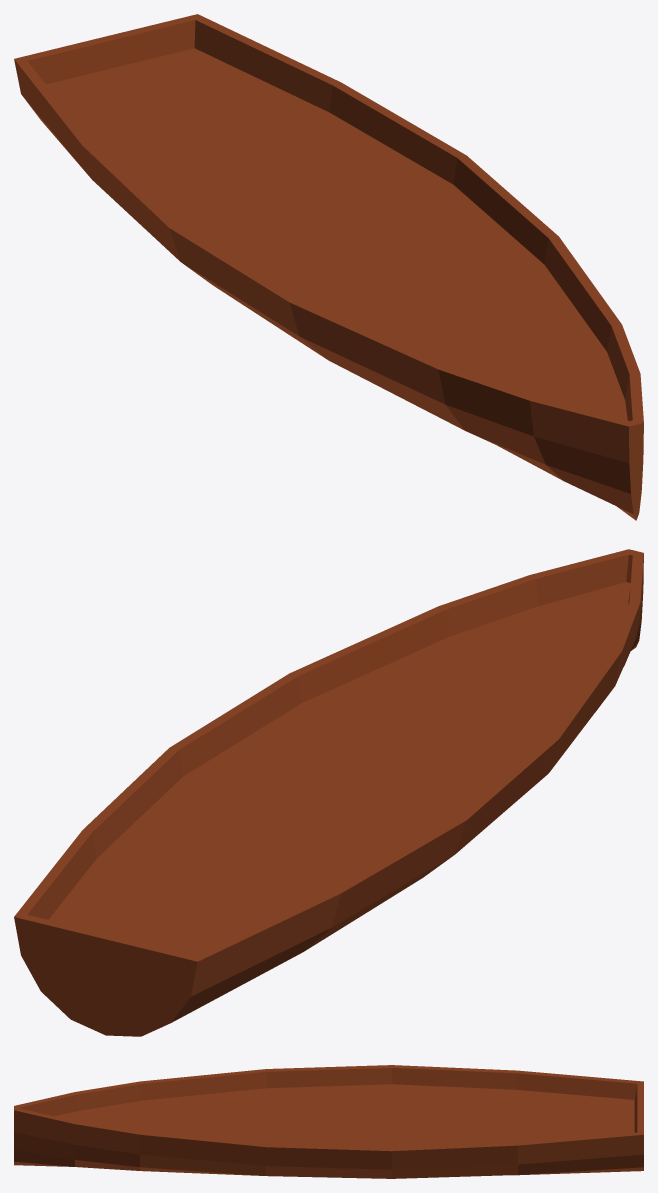
Rendered from Ruderboot.fbx.
3 renders of one model, top to bottom at view 1: azimuth 30°, elevation 25°; view 2: azimuth 150°, elevation 25°; view 3: azimuth 270°, elevation 25°, orthographic. The views are drawn at different scales.
Visible parts, largest first — view 1: Cylinder; view 2: Cylinder; view 3: Cylinder.
Boxes of the visible parts, x1,y1,x2,y2 form: Cylinder: (14,14,643,520); Cylinder: (14,549,643,1036); Cylinder: (14,1065,643,1178).
Size of the model in its own units: 324 by 100 by 1000.
